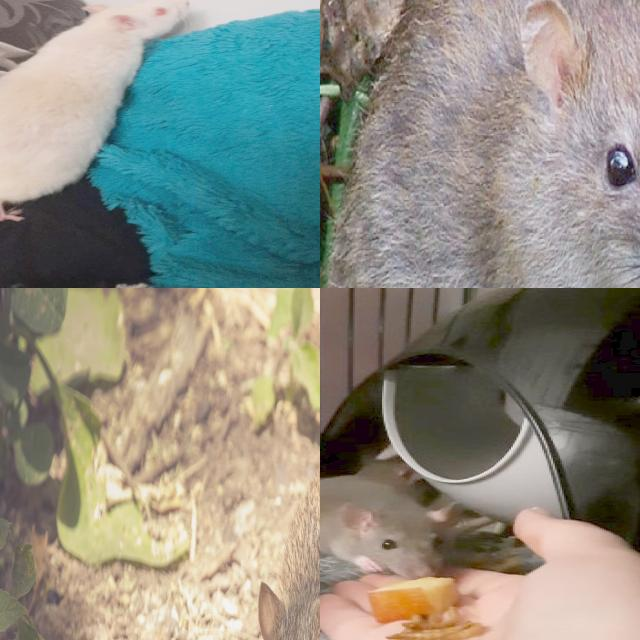rat: (334, 0, 640, 288), (0, 0, 189, 222), (320, 474, 455, 585), (256, 451, 320, 640)
